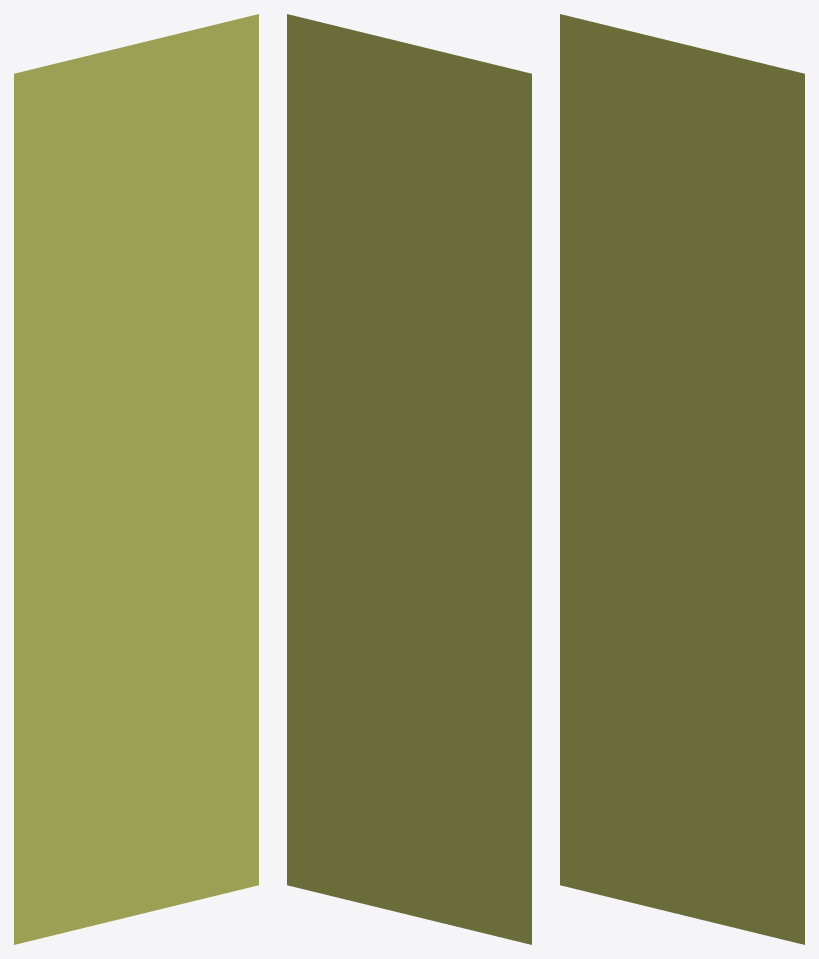
The model's file is stage_5_grain_fill.gltf.
The picture shows the model from 3 angles, left to right: view 1: azimuth 30°, elevation 25°; view 2: azimuth 150°, elevation 25°; view 3: azimuth 330°, elevation 25°; orthographic projection.
Visible parts, largest first — view 1: plant_stage_5; view 2: plant_stage_5; view 3: plant_stage_5.
Part boxes in pixels (box(x1,y1,x2,y2)): plant_stage_5: box(14, 14, 258, 944); plant_stage_5: box(287, 14, 531, 944); plant_stage_5: box(560, 14, 804, 944).
Size of the model in its own units: 0.25 by 0.85 by 0.
